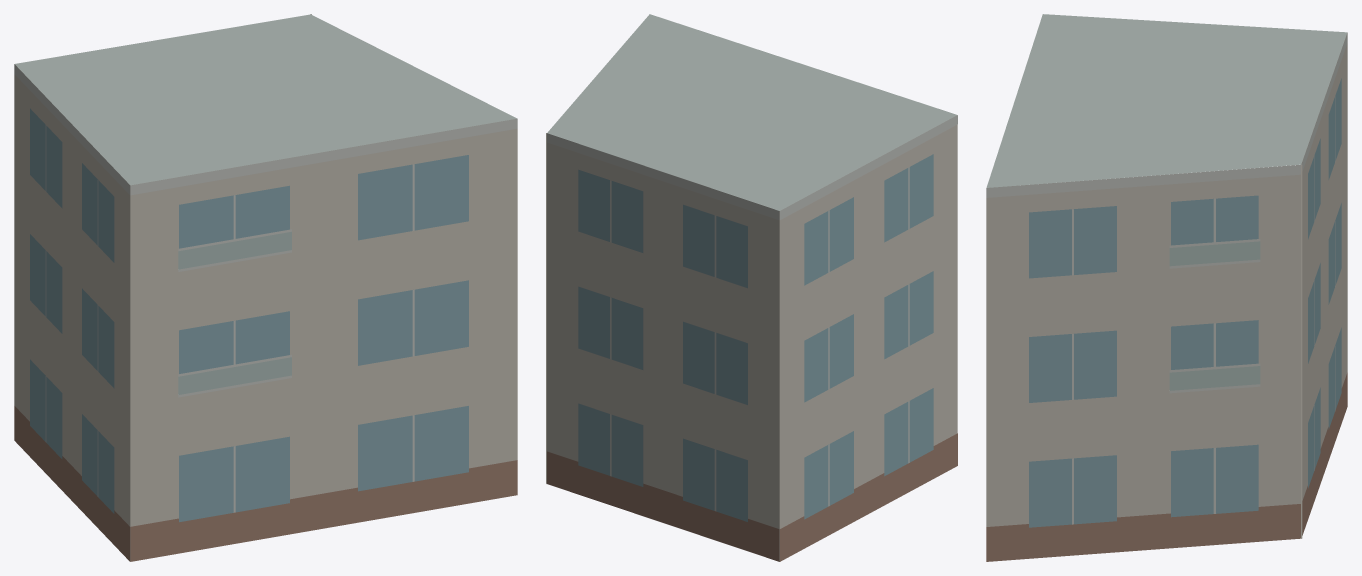
The model's file is survey-upis-32499723.glb.
3 views of the same model, side by side, from view 1: azimuth 30°, elevation 25°; view 2: azimuth 150°, elevation 25°; view 3: azimuth 270°, elevation 25° (orthographic). The views are drawn at different scales.
Visible parts, largest first — view 1: survey-upis-32499723.tmp; view 2: survey-upis-32499723.tmp; view 3: survey-upis-32499723.tmp.
Boxes of the visible parts, <box> form: survey-upis-32499723.tmp: <box>14,14,517,561</box>; survey-upis-32499723.tmp: <box>546,14,957,561</box>; survey-upis-32499723.tmp: <box>986,14,1347,561</box>.
Bounding box in the file's own units: 9.14 × 9.15 × 8.02.
